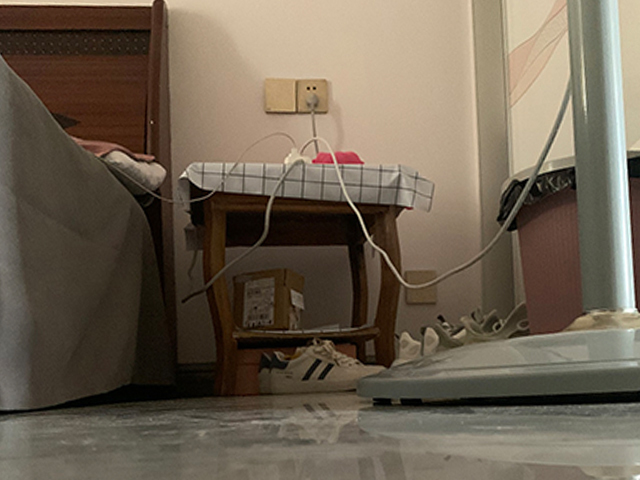bed: (1, 1, 179, 417)
table: (187, 161, 407, 399)
wire: (238, 90, 350, 198)
